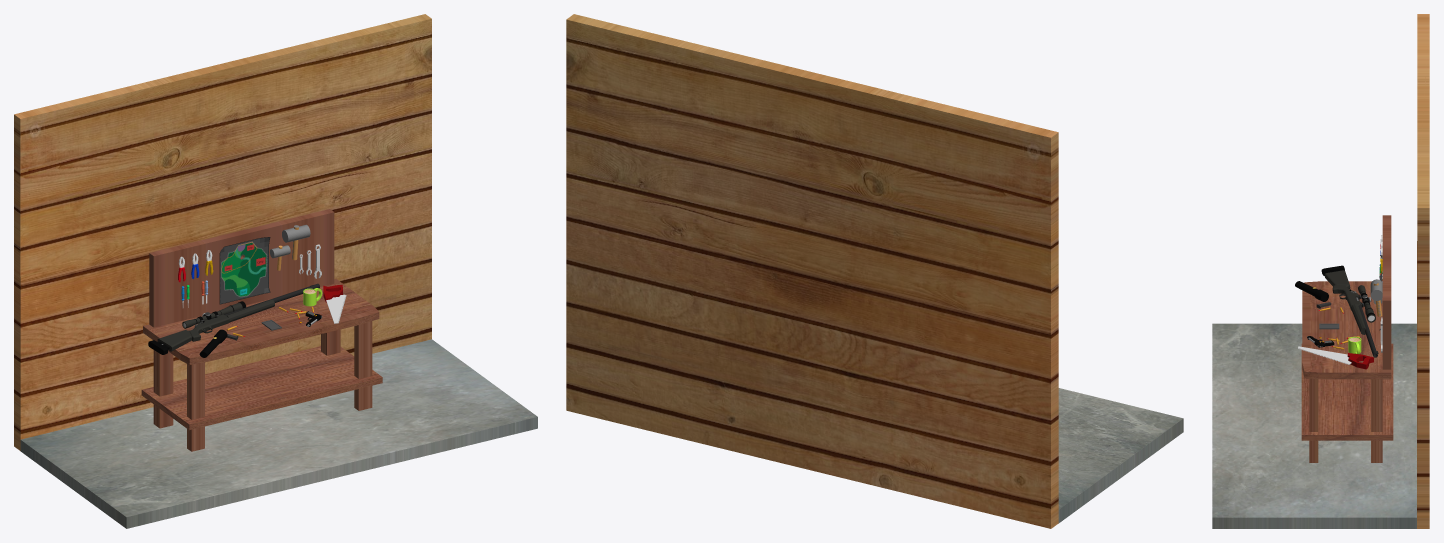
The model's file is workbench 3d praktek (1).fbx.
3 renders of one model, left to right at view 1: azimuth 30°, elevation 25°; view 2: azimuth 150°, elevation 25°; view 3: azimuth 270°, elevation 25°, orthographic. The views are drawn at different scales.
Parts seen in each view (by area): view 1: Plane.001, Plane.002, Cube.001, Plane, M24, Cube.003; view 2: Plane.001, Plane.002; view 3: Plane.002, Cube.001, Plane.001, M24, Cube.003, Cylinder.004, Cylinder.012.
Boxes of the visible parts, x1,y1,x2,y2 form: Plane.001: [14, 14, 431, 450]; Plane.002: [20, 339, 537, 528]; Cube.001: [141, 209, 382, 451]; Plane: [219, 237, 270, 304]; M24: [148, 283, 319, 354]; Cube.003: [323, 285, 346, 323]; Plane.001: [566, 14, 1058, 528]; Plane.002: [1058, 388, 1183, 523]; Plane.002: [1212, 323, 1416, 528]; Cube.001: [1301, 215, 1393, 462]; Plane.001: [1417, 14, 1429, 528]; M24: [1321, 265, 1378, 357]; Cube.003: [1298, 346, 1373, 369]; Cylinder.004: [1370, 279, 1382, 316]; Cylinder.012: [1295, 281, 1328, 301].
Bounding box in the file's own units: 614 × 474 × 291.
